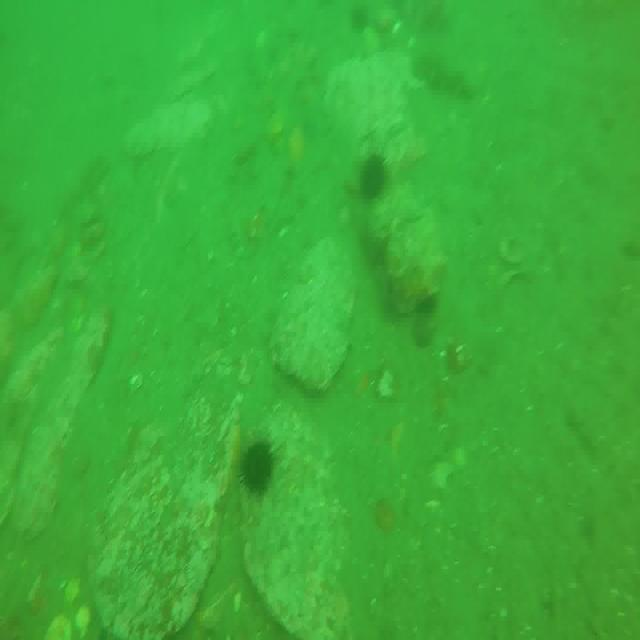echinus: (241, 438, 274, 498), (360, 151, 386, 201)
holothurian: (408, 39, 475, 100)
